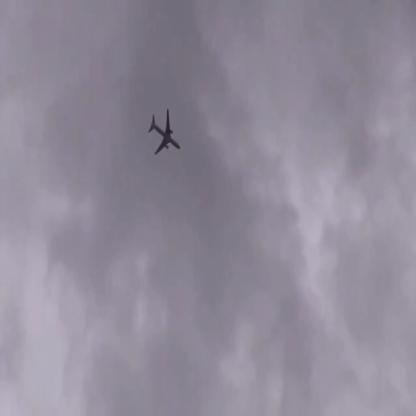CIV_Plane: (147, 109, 182, 156)
